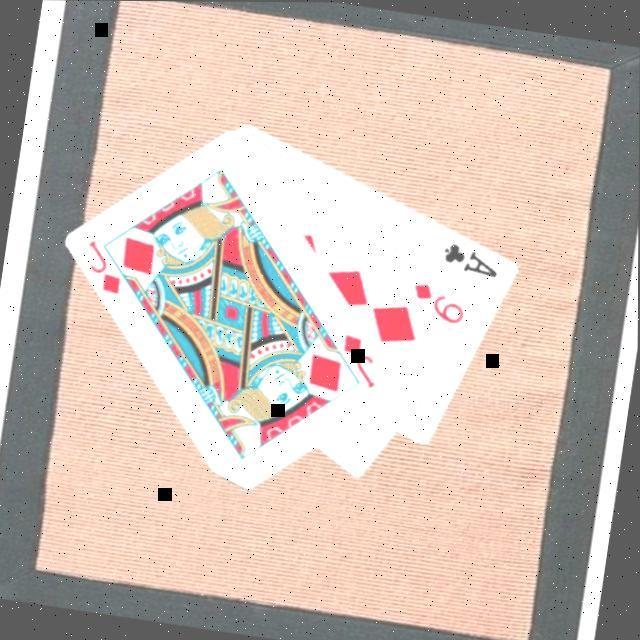9D: (408, 279, 472, 329)
AC: (439, 238, 505, 282)
JD: (336, 330, 388, 393), (79, 237, 131, 300)
